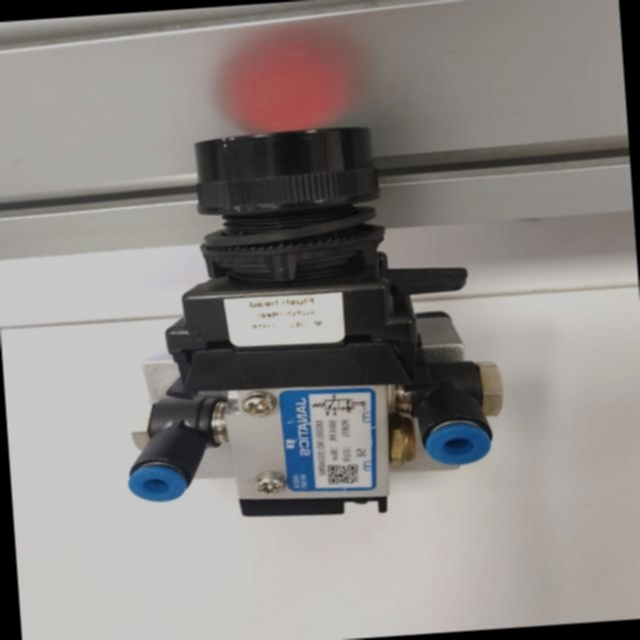push button: (102, 115, 511, 530)
